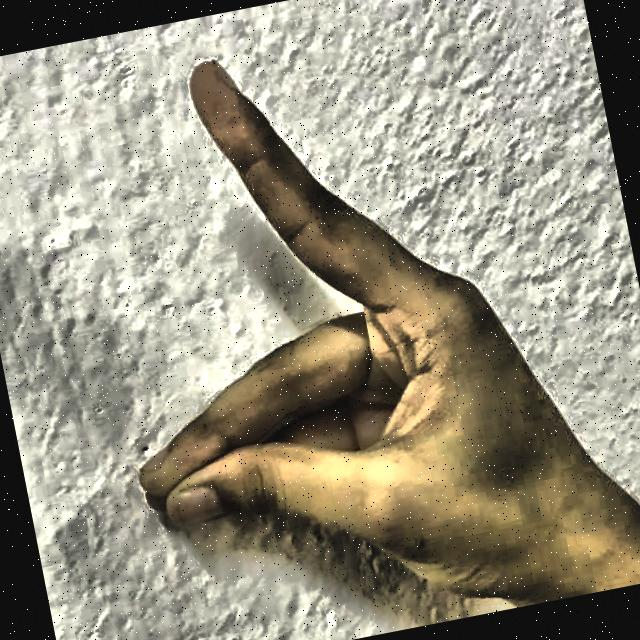Dha: (40, 0, 620, 640)
